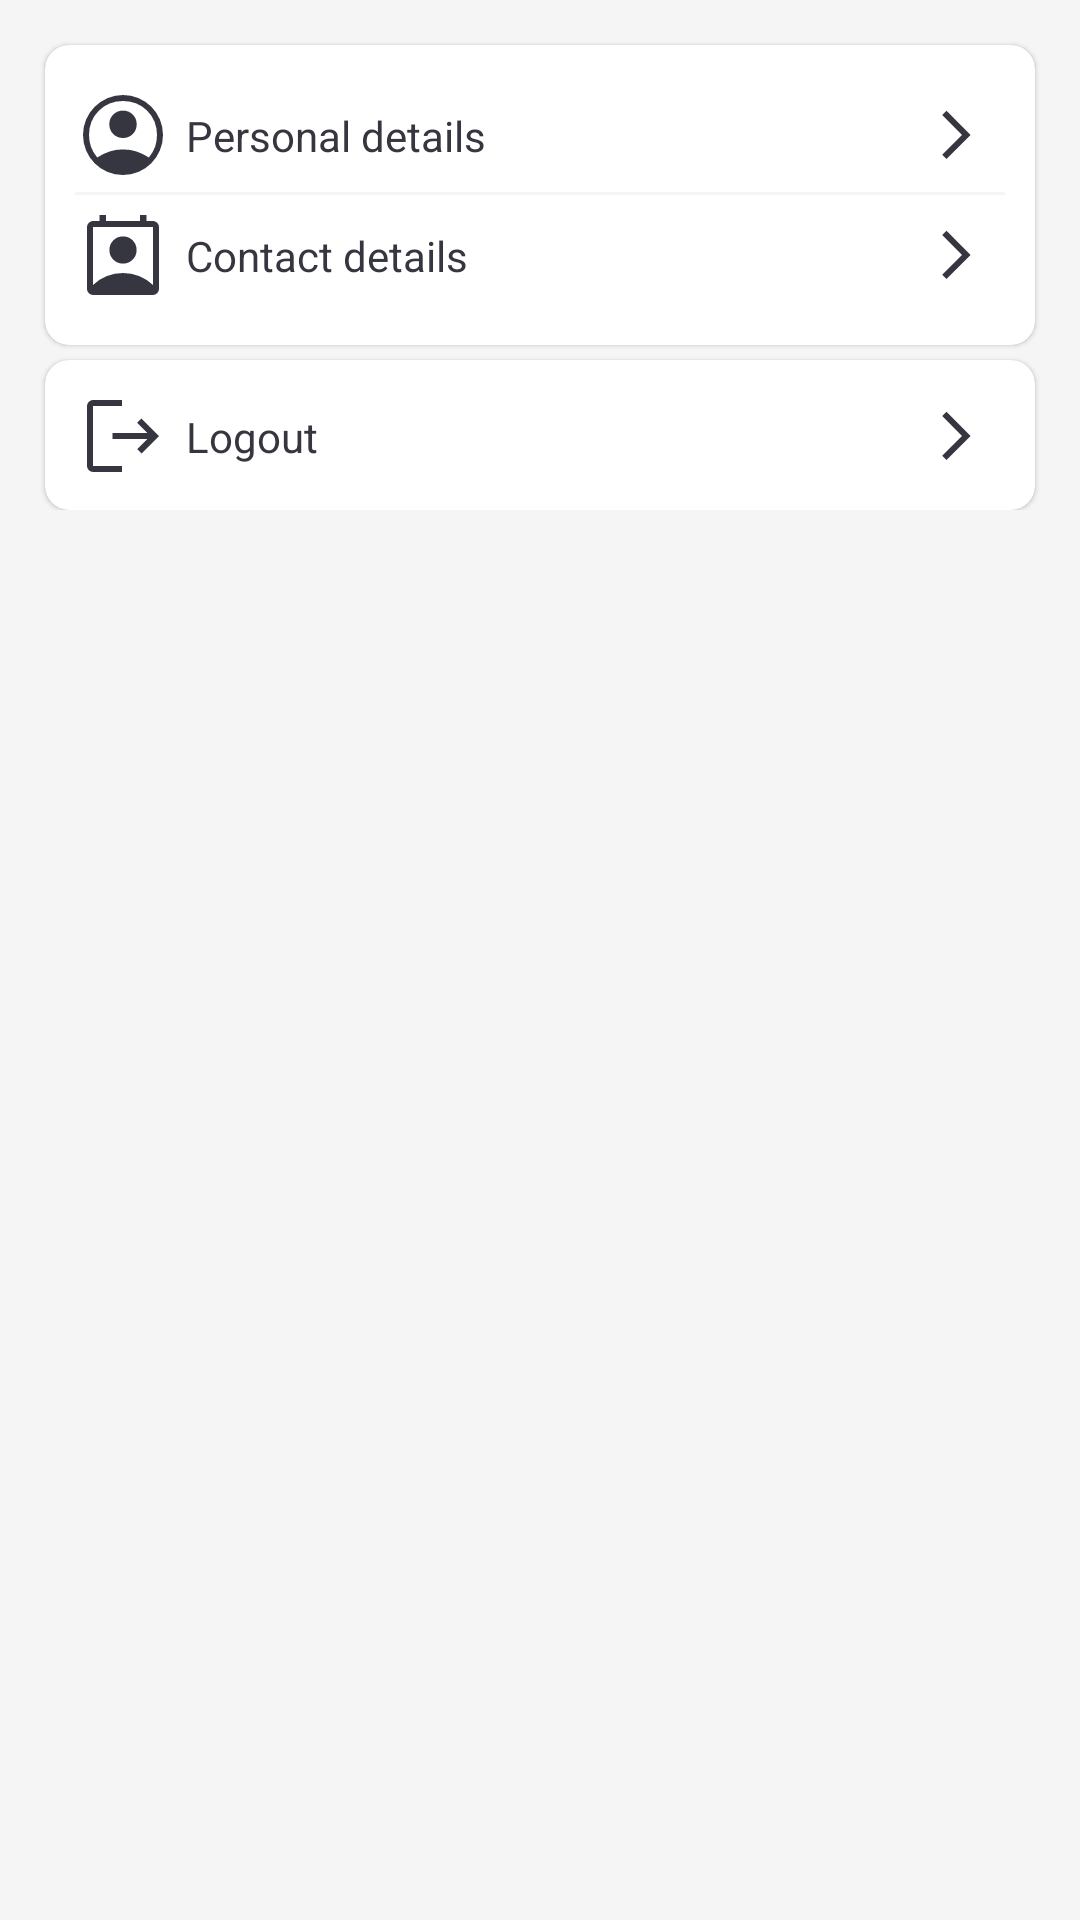

Where icons sit on this 1080px x 1920px app screen, as [left=x1, top=y1, right=x2, bottom=y2]:
account circle: [left=83, top=95, right=163, bottom=175]
navigate next: [left=942, top=111, right=971, bottom=159], [left=942, top=231, right=971, bottom=279], [left=942, top=412, right=971, bottom=460]
perm contact calendar: [left=87, top=215, right=159, bottom=295]
